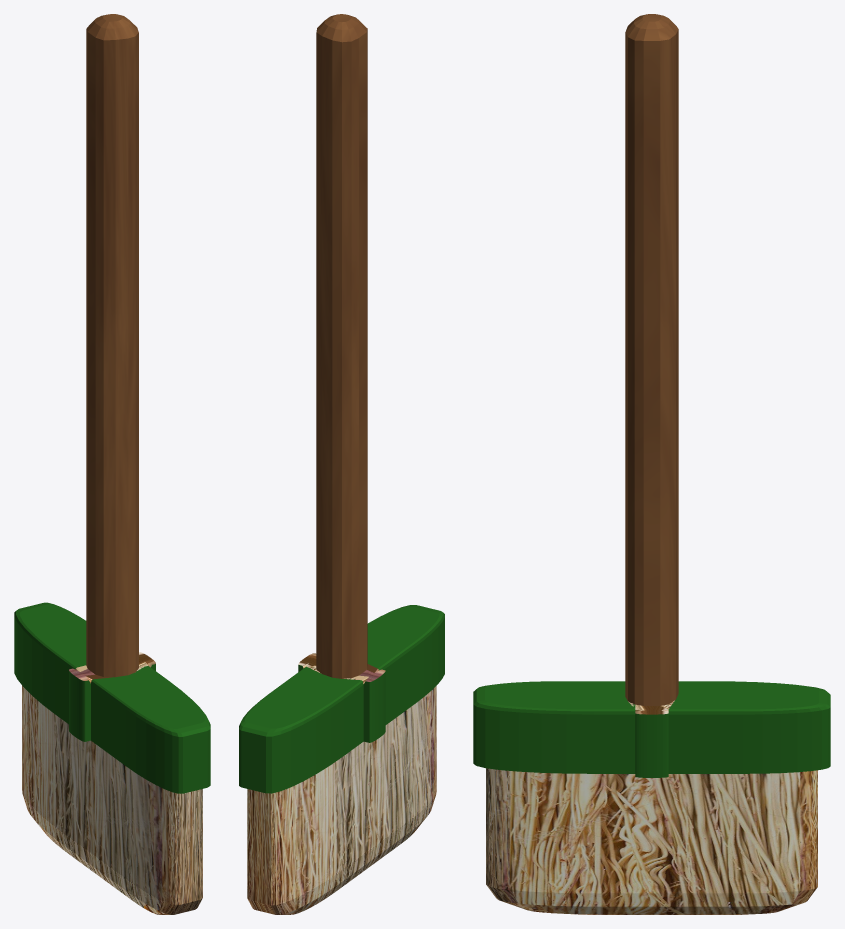
The model's file is vassoura.fbx.
3 views of the same model, side by side, from view 1: azimuth 30°, elevation 25°; view 2: azimuth 150°, elevation 25°; view 3: azimuth 270°, elevation 25° (orthographic). The views are drawn at different scales.
Visible parts, largest first — view 1: vassoura; view 2: vassoura; view 3: vassoura.
Boxes of the visible parts, x1=… form: vassoura: x1=14, y1=14, x2=210, y2=914; vassoura: x1=239, y1=14, x2=444, y2=914; vassoura: x1=473, y1=14, x2=830, y2=914.
Bounding box in the file's own units: 0.1273 × 1.38 × 0.5.
